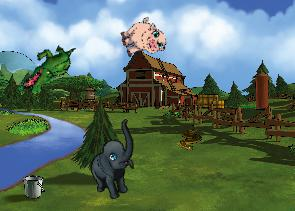crocodile: (20, 34, 77, 103)
elephant: (76, 118, 154, 204)
pig: (116, 14, 169, 64)
